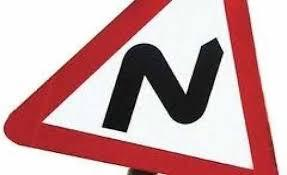double_bend_right: (4, 0, 285, 174)
